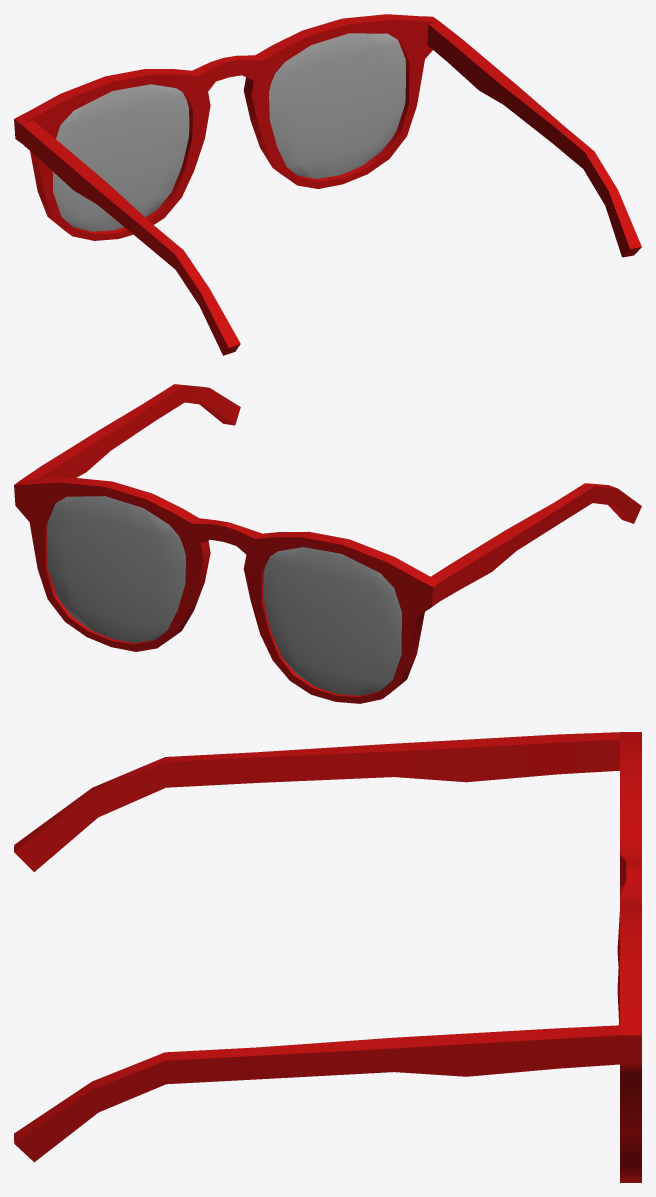
The model's file is red Sunglasses.fbx.
3 renders of one model, top to bottom at view 1: azimuth 30°, elevation 25°; view 2: azimuth 150°, elevation 25°; view 3: azimuth 270°, elevation 25°, orthographic. The views are drawn at different scales.
Parts seen in each view (by area): view 1: Linse, Rahmen, Bügel; view 2: Linse, Rahmen, Bügel; view 3: Bügel, Rahmen.
Part boxes in pixels (x1=…): Linse: x1=52, y1=33, x2=405, y2=231; Rahmen: x1=14, y1=14, x2=439, y2=240; Bügel: x1=21, y1=22, x2=641, y2=355; Linse: x1=46, y1=496, x2=401, y2=695; Rahmen: x1=14, y1=477, x2=440, y2=703; Bügel: x1=22, y1=384, x2=641, y2=601; Bügel: x1=14, y1=732, x2=619, y2=1162; Rahmen: x1=617, y1=732, x2=641, y2=1182.
Size of the model in its own units: 744 by 268 by 648.
